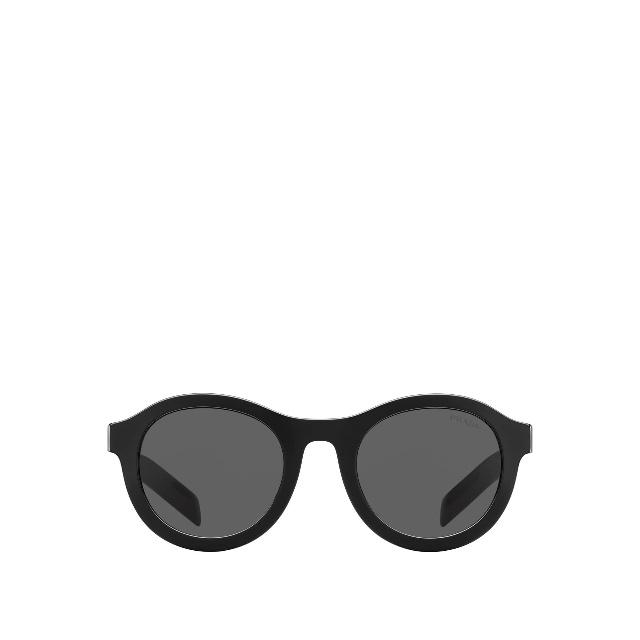Sunglasses: (98, 350, 562, 566)
